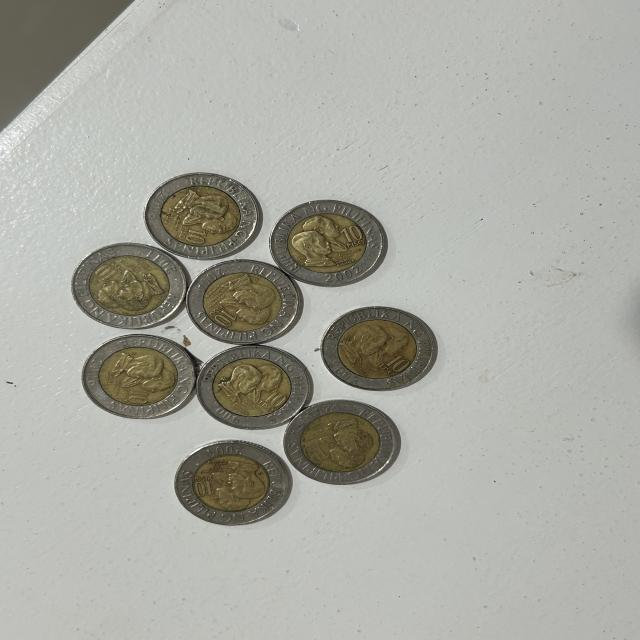10_Old_Front: (346, 318, 415, 380), (295, 213, 363, 272), (192, 459, 267, 510), (95, 258, 164, 312), (108, 350, 172, 406), (210, 275, 272, 330), (222, 362, 288, 413), (173, 192, 234, 246), (308, 417, 371, 464)
